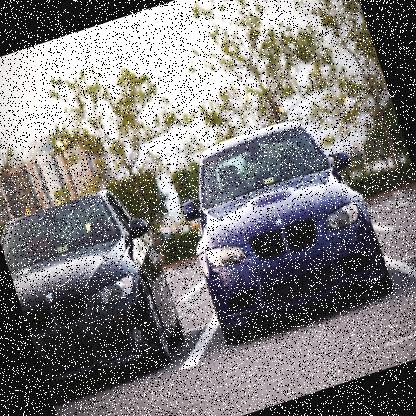Car: (166, 106, 395, 347), (0, 180, 191, 402)
